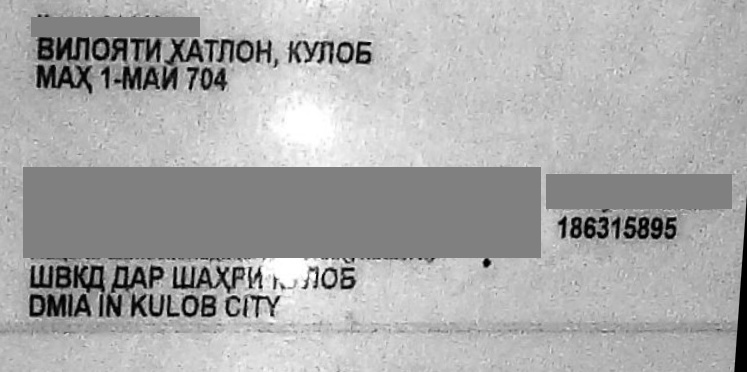0: (195, 57, 209, 99)
1: (100, 57, 112, 99), (556, 212, 572, 240), (610, 212, 626, 240)
3: (595, 212, 613, 240)
4: (211, 57, 231, 99)
5: (621, 212, 641, 240), (662, 213, 680, 241)
6: (581, 212, 599, 240)
7: (186, 57, 198, 99)
8: (566, 212, 586, 240), (635, 212, 655, 240)
9: (648, 212, 668, 240)
А: (140, 59, 162, 97), (194, 258, 214, 296), (186, 32, 206, 68), (132, 258, 148, 296)
Б: (352, 35, 380, 71), (340, 258, 364, 296)
В: (52, 258, 72, 296), (37, 31, 55, 67)
Д: (110, 258, 132, 296), (88, 258, 104, 296)
И: (245, 258, 271, 296), (146, 32, 170, 68), (54, 31, 74, 67)
Й: (160, 59, 186, 97)
К: (71, 258, 89, 296), (291, 34, 303, 70)
Л: (303, 258, 327, 296), (72, 31, 92, 67), (315, 34, 335, 70), (219, 33, 235, 69)
М: (120, 59, 138, 97)
Н: (254, 33, 272, 69)
О: (322, 258, 346, 296), (91, 31, 111, 67), (234, 33, 254, 69), (334, 34, 354, 70)
Р: (231, 258, 247, 296), (148, 258, 162, 296)
Т: (131, 32, 149, 68), (207, 33, 223, 69)
У: (302, 34, 318, 70)
Х: (165, 32, 189, 68)
Ш: (27, 258, 51, 296), (173, 258, 193, 296)
Я: (108, 31, 130, 67)
Ҳ: (213, 258, 231, 296)
